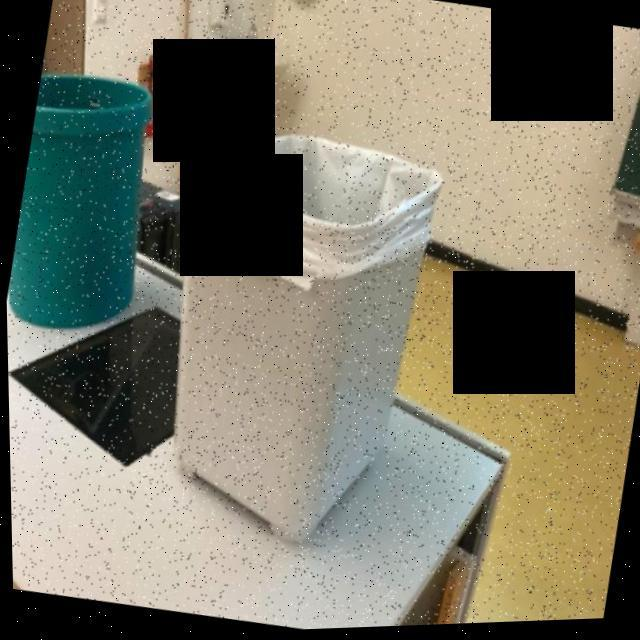bin: (105, 94, 488, 583), (1, 33, 176, 361)
